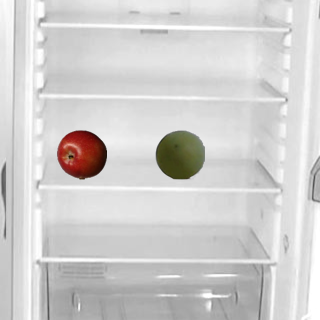Apple Braeburn: (56, 129, 106, 179)
Grape White 4: (154, 129, 204, 179)
